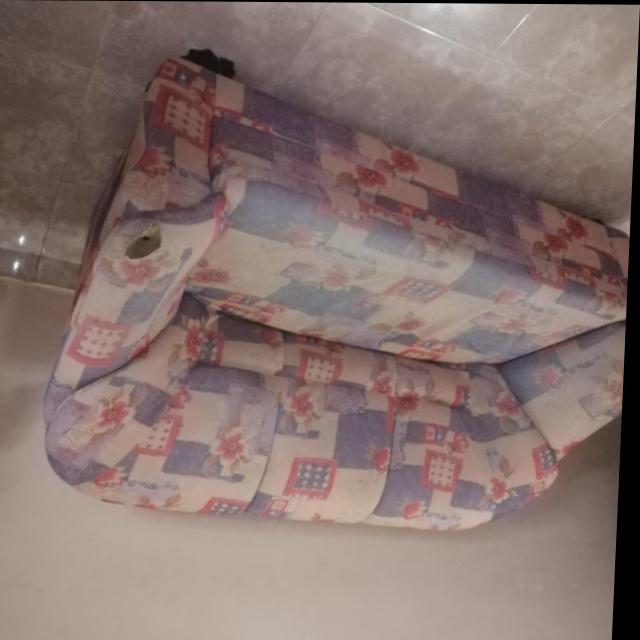Sofa: (39, 55, 638, 531)
